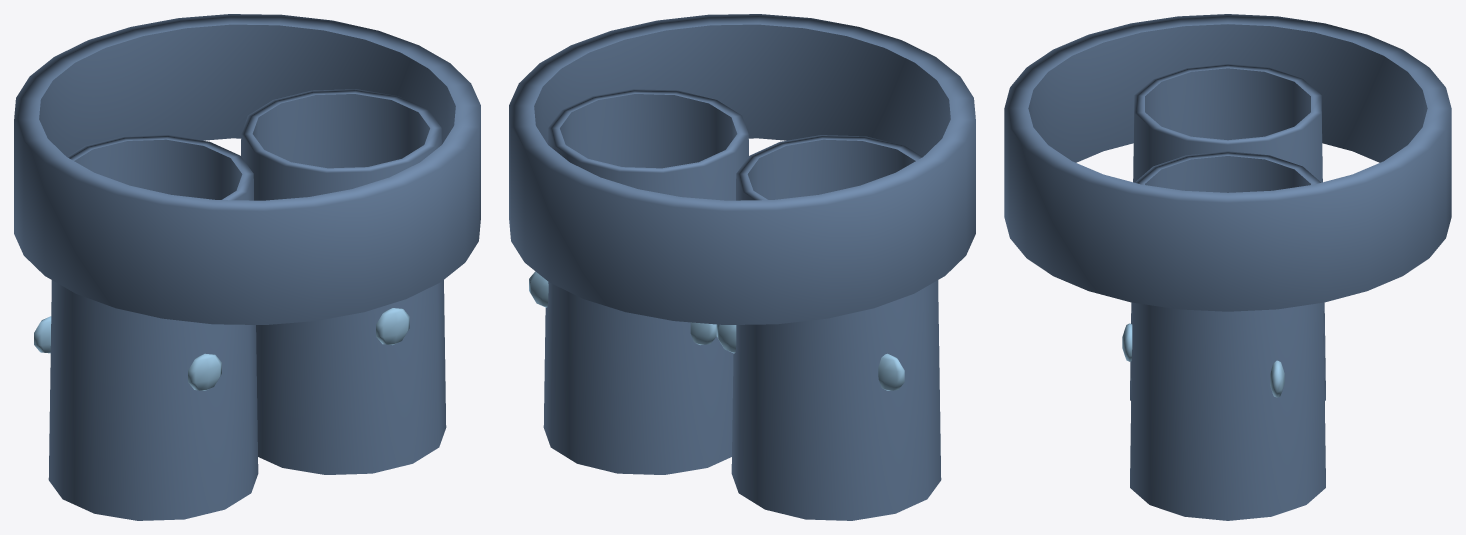
The model's file is acid_washed_jeans.glb.
3 views of the same model, side by side, from view 1: azimuth 30°, elevation 25°; view 2: azimuth 150°, elevation 25°; view 3: azimuth 270°, elevation 25° (orthographic). The views are drawn at different scales.
Parts seen in each view (by area): view 1: acid_washed_jeans_Body, acid_washed_jeans_LegL, acid_washed_jeans_LegR; view 2: acid_washed_jeans_Body, acid_washed_jeans_LegL, acid_washed_jeans_LegR; view 3: acid_washed_jeans_Body, acid_washed_jeans_LegR, acid_washed_jeans_LegL.
Part boxes in pixels (box(x1,y1,x2,y2)): acid_washed_jeans_Body: box(14, 14, 480, 324); acid_washed_jeans_LegL: box(34, 135, 258, 520); acid_washed_jeans_LegR: box(241, 89, 446, 474); acid_washed_jeans_Body: box(509, 14, 975, 324); acid_washed_jeans_LegL: box(716, 135, 941, 520); acid_washed_jeans_LegR: box(529, 89, 748, 474); acid_washed_jeans_Body: box(1004, 14, 1451, 311); acid_washed_jeans_LegR: box(1122, 151, 1325, 520); acid_washed_jeans_LegL: box(1130, 63, 1325, 400).
Bounding box in the file's own units: 0.41 × 0.33 × 0.41.
